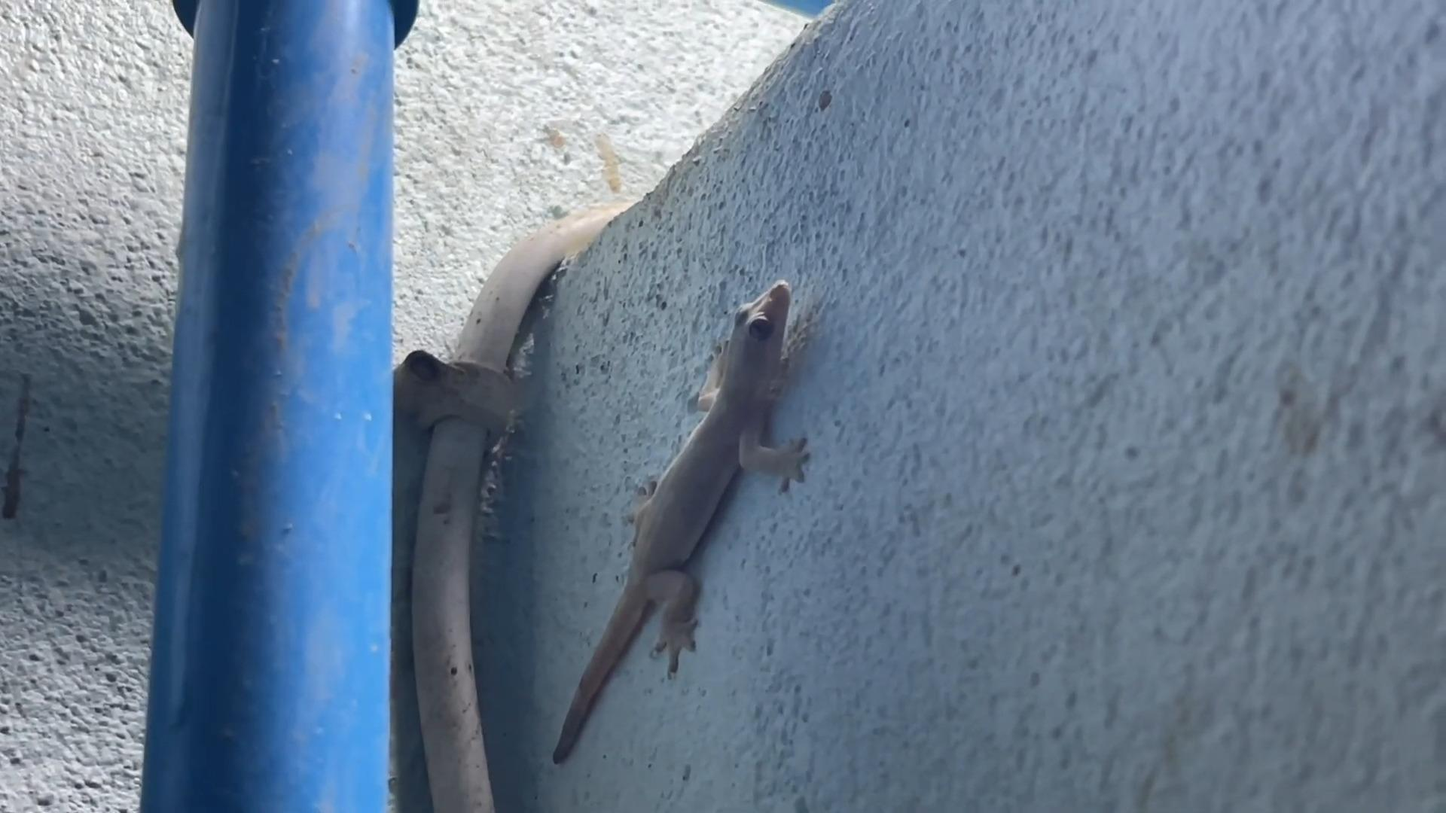lizard: (603, 275, 814, 675)
